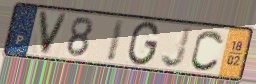8: (66, 15, 95, 59)
C: (189, 28, 226, 73)
G: (125, 20, 162, 68)
I: (104, 18, 127, 64)
J: (159, 26, 193, 70)
V: (37, 9, 70, 57)
